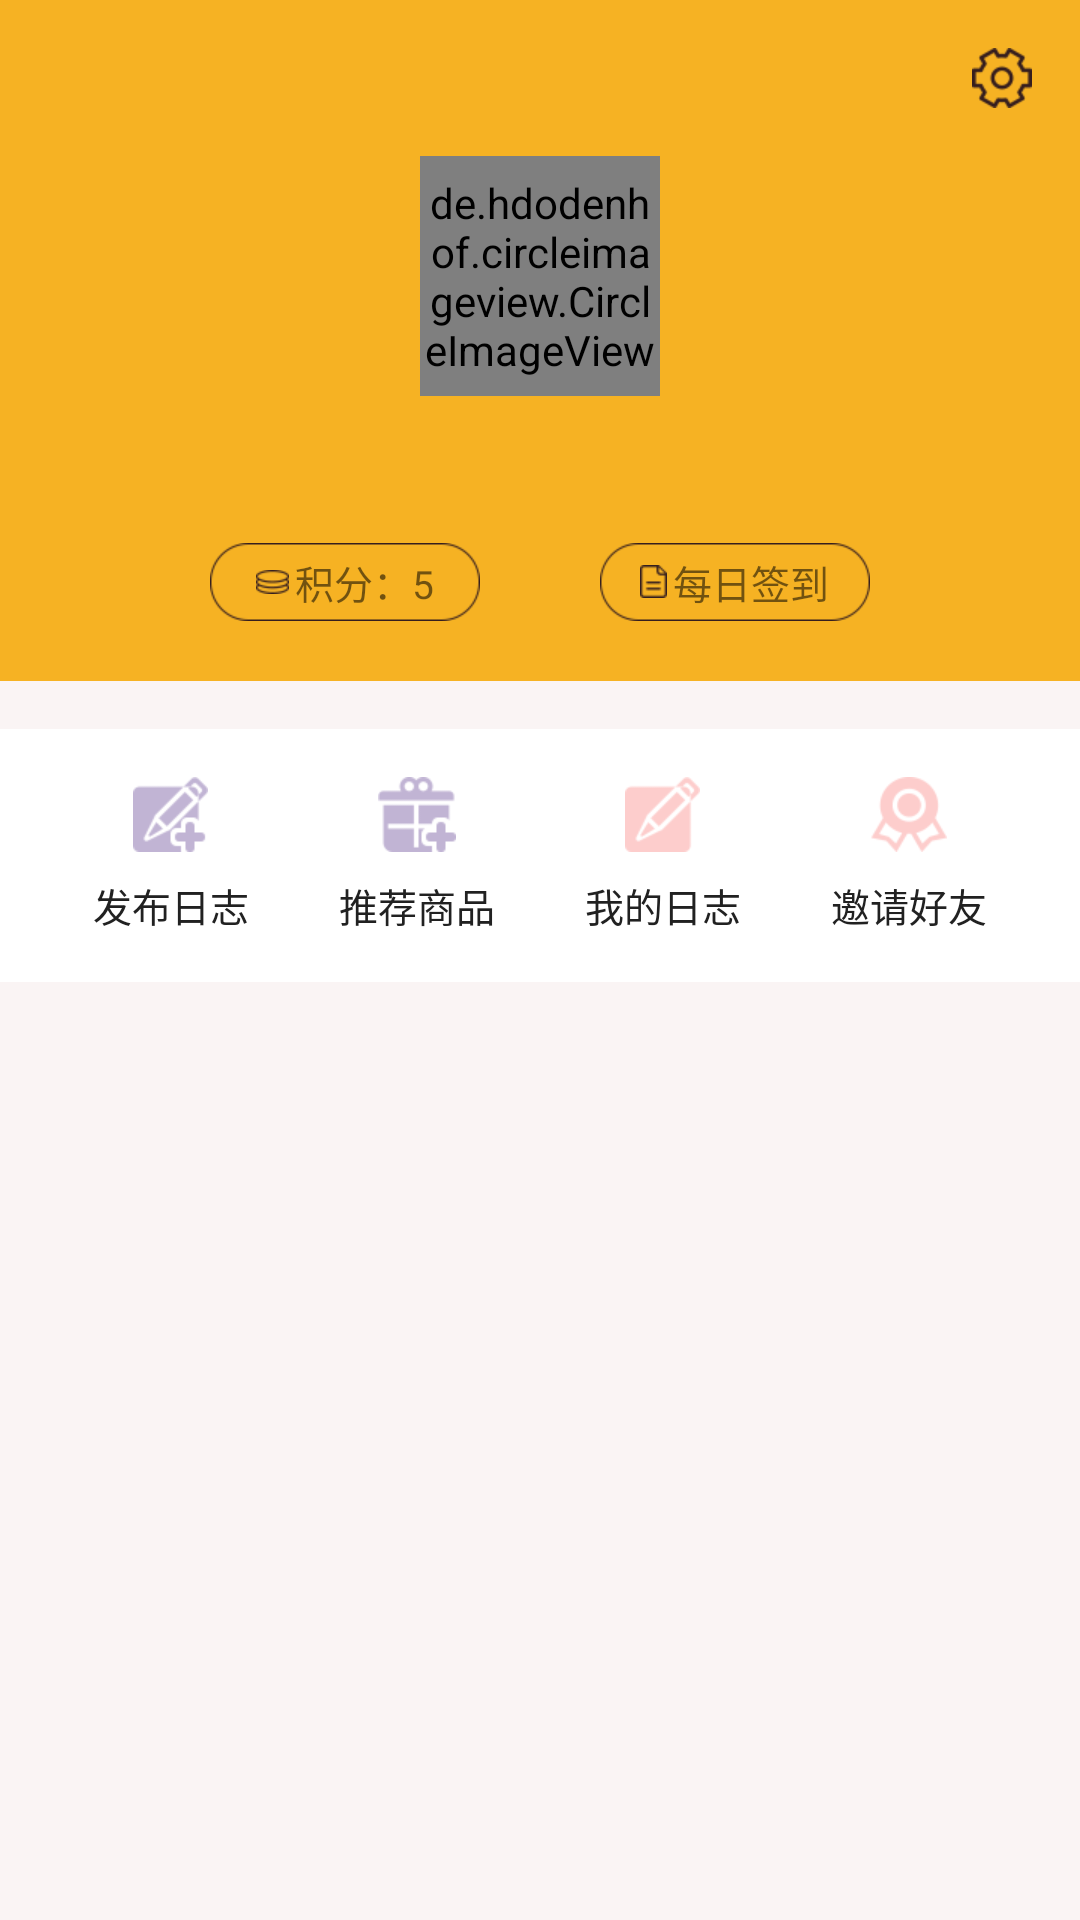

Named icons in this screenshot (1080x1920) and their centers, (x=x, y=y):
shezhi: (x=1002, y=78)
